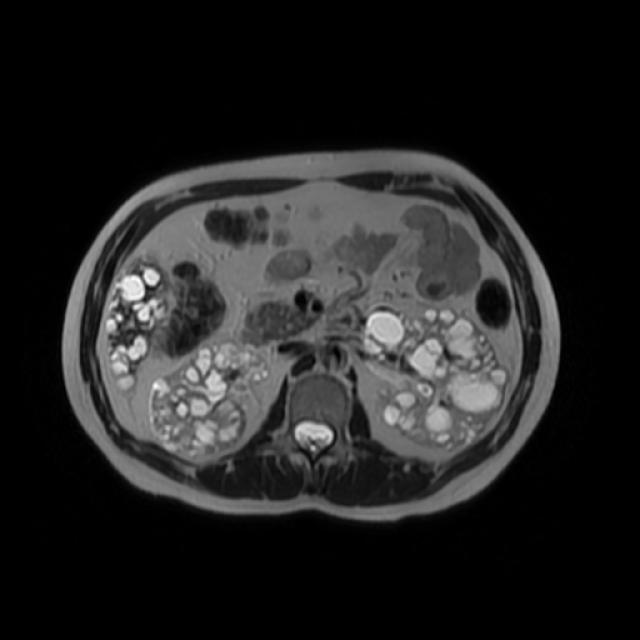sag: (147, 338, 272, 460)
sol: (359, 304, 510, 453)
